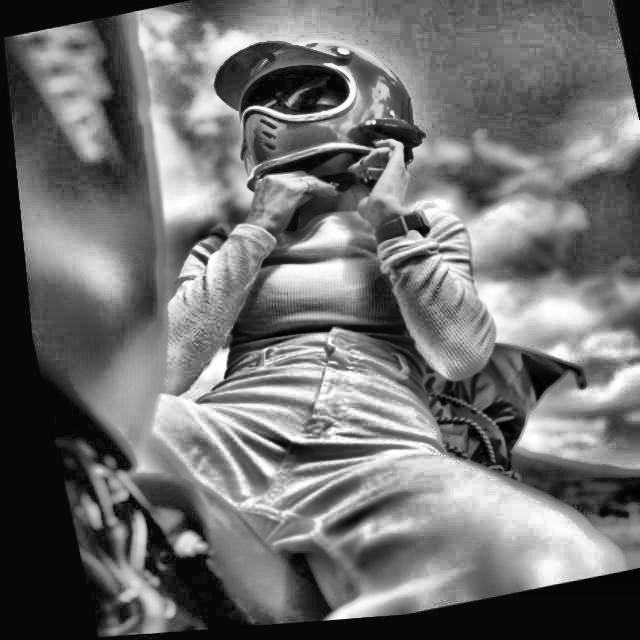Helmet: (194, 14, 434, 225)
